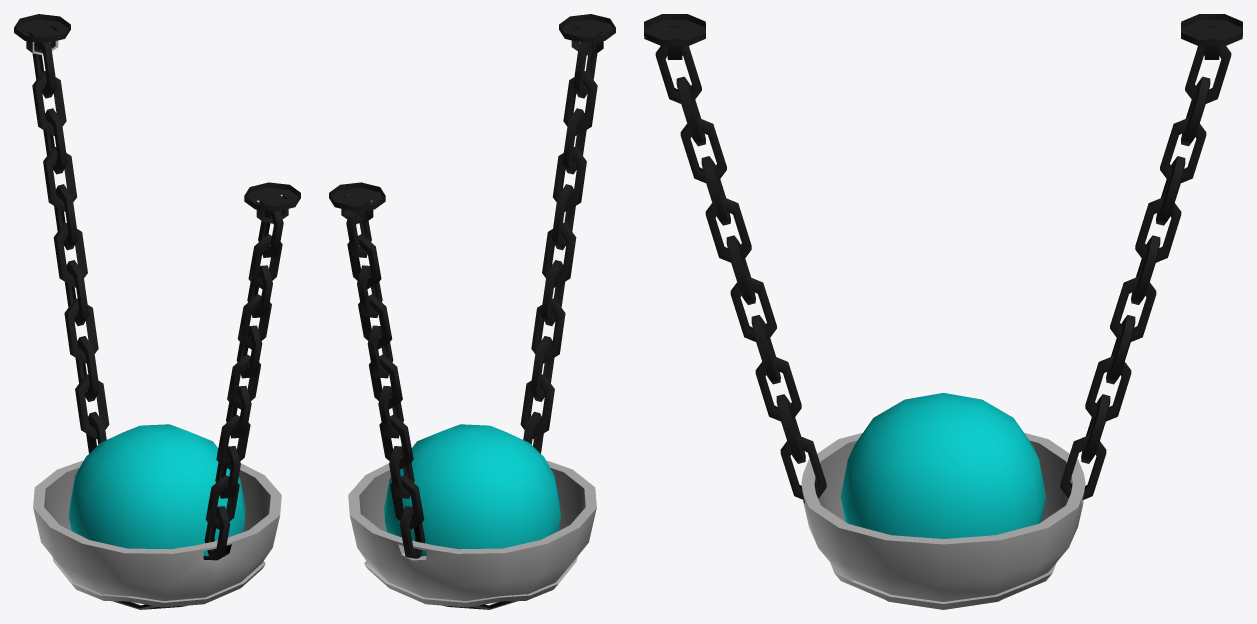
The model's file is Hea_Ba_Toilet_Hanging_Light.fbx.
3 views of the same model, side by side, from view 1: azimuth 30°, elevation 25°; view 2: azimuth 150°, elevation 25°; view 3: azimuth 270°, elevation 25° (orthographic). The views are drawn at different scales.
Parts seen in each view (by area): view 1: LightSource_Toilet; view 2: LightSource_Toilet; view 3: LightSource_Toilet.
Boxes of the visible parts, x1,y1,x2,y2 form: LightSource_Toilet: (14, 14, 300, 609); LightSource_Toilet: (329, 14, 615, 609); LightSource_Toilet: (644, 14, 1242, 609).
Bounding box in the file's own units: 18.17 × 39.31 × 37.67.
